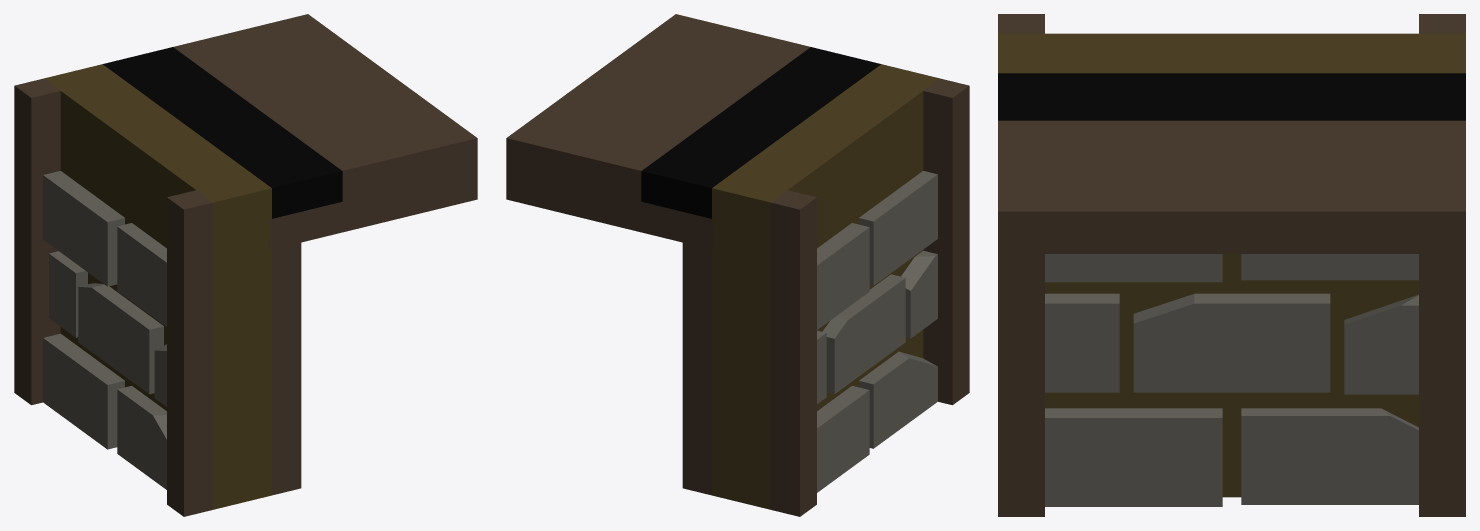
The model's file is A_BrickWallFloor10.fbx.
3 views of the same model, side by side, from view 1: azimuth 30°, elevation 25°; view 2: azimuth 150°, elevation 25°; view 3: azimuth 270°, elevation 25° (orthographic). The views are drawn at different scales.
Visible parts, largest first — view 1: A_BrickWallFloor10; view 2: A_BrickWallFloor10; view 3: A_BrickWallFloor10.
Part boxes in pixels (x1,y1,x2,y2): A_BrickWallFloor10: (14,14,477,516); A_BrickWallFloor10: (506,14,969,516); A_BrickWallFloor10: (998,14,1465,516).
Bounding box in the file's own units: 100 × 100 × 100.
